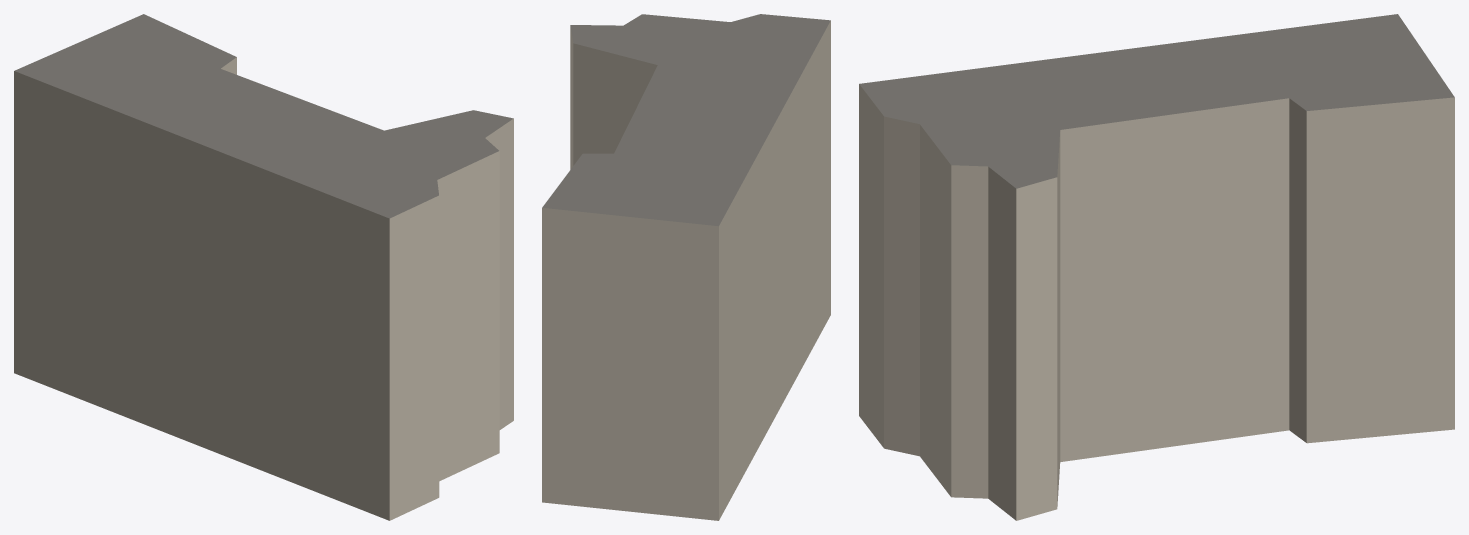
3 views of the same model, side by side, from view 1: azimuth 30°, elevation 25°; view 2: azimuth 150°, elevation 25°; view 3: azimuth 270°, elevation 25° (orthographic). The views are drawn at different scales.
Visible parts, largest first — view 1: HP-w446934742; view 2: HP-w446934742; view 3: HP-w446934742.
Boxes of the visible parts, <box> form: HP-w446934742: <box>14,14,513,520</box>; HP-w446934742: <box>542,14,830,520</box>; HP-w446934742: <box>859,14,1454,520</box>.
Bounding box in the file's own units: 20.31 × 18 × 29.26.
